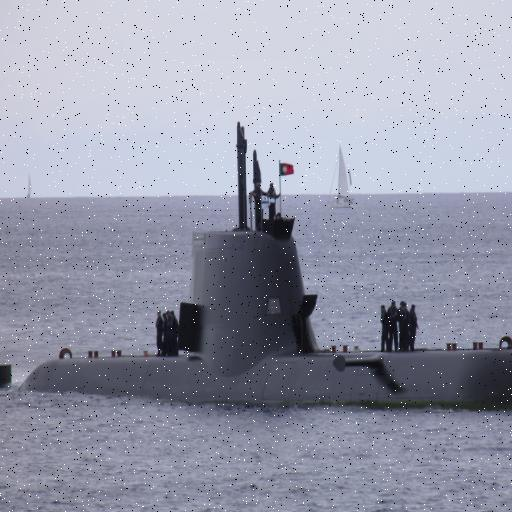submarine: (1, 111, 512, 395)
